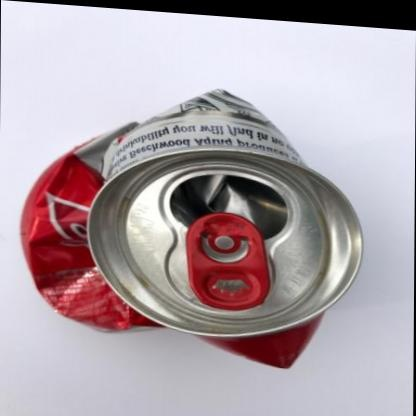trash: (21, 90, 361, 367), (21, 147, 158, 329)
